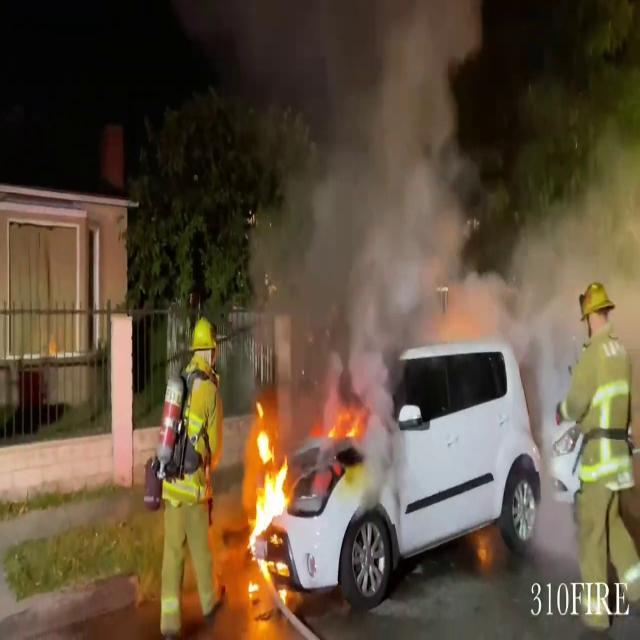Fire: (240, 407, 294, 567), (321, 398, 369, 454)
Smoke: (246, 0, 497, 420), (511, 93, 640, 408)
